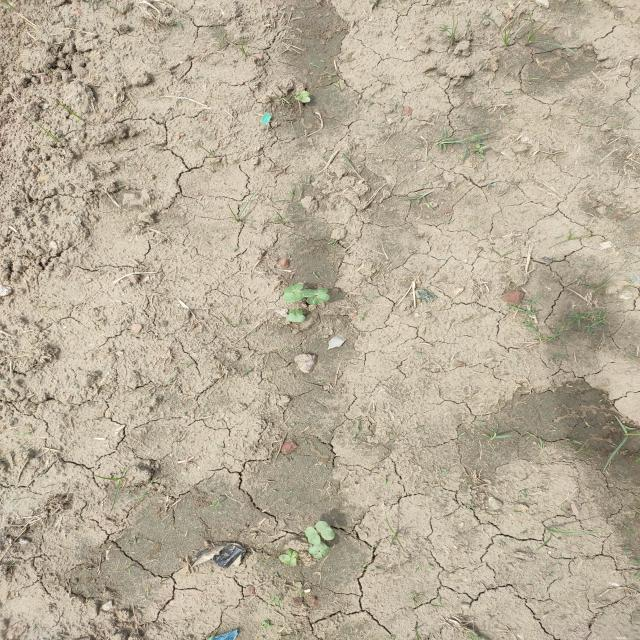seedling_s2: (315, 521, 334, 540), (305, 526, 321, 545), (282, 290, 304, 302), (301, 288, 328, 297), (307, 294, 330, 304), (279, 554, 297, 566), (283, 283, 304, 293), (314, 541, 329, 555), (309, 547, 323, 559), (286, 314, 306, 322), (295, 95, 311, 103), (286, 549, 298, 557), (288, 309, 303, 315), (298, 91, 309, 96)
